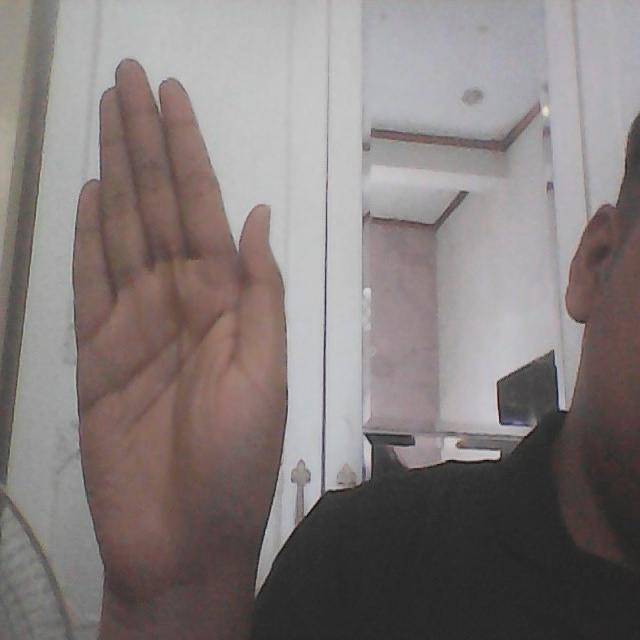hand: (71, 51, 290, 621)
